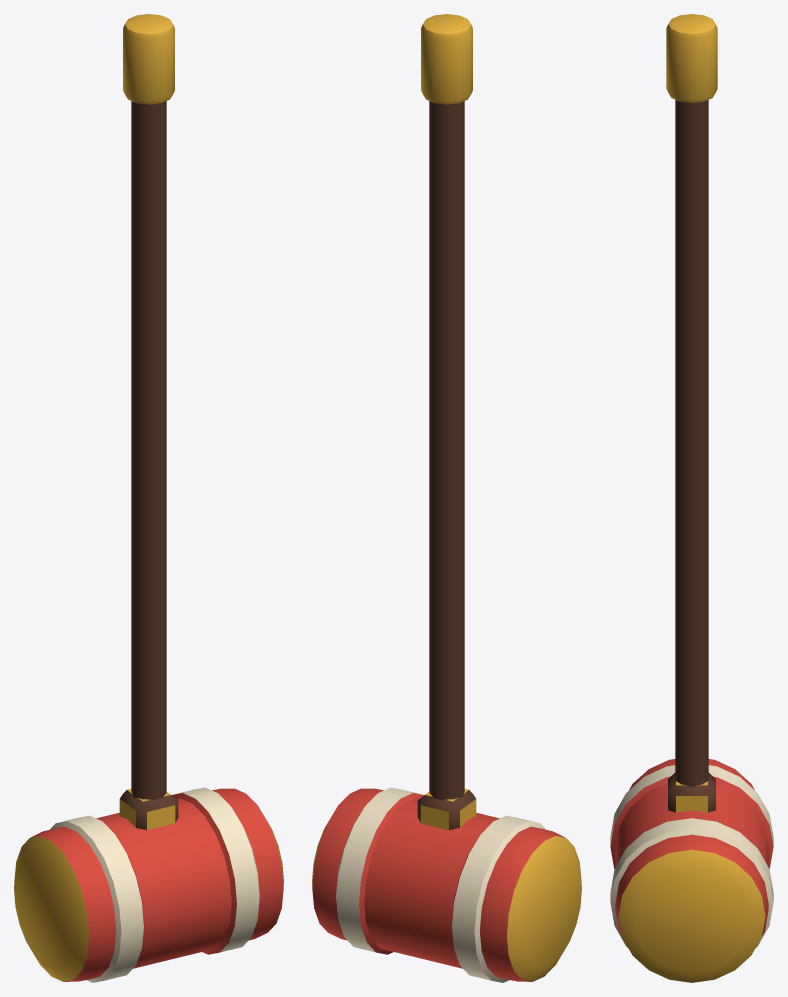
File: dash_hammer.glb
The picture shows the model from 3 angles, left to right: view 1: azimuth 30°, elevation 25°; view 2: azimuth 150°, elevation 25°; view 3: azimuth 270°, elevation 25°; orthographic projection.
Parts seen in each view (by area): view 1: dash_hammer; view 2: dash_hammer; view 3: dash_hammer.
Boxes of the visible parts, box(x1,y1,x2,y2) form: dash_hammer: box(14, 14, 283, 982); dash_hammer: box(312, 14, 581, 982); dash_hammer: box(610, 14, 773, 982).
Size of the model in its own units: 1.5 by 6.36 by 1.02.
